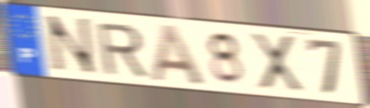7: (305, 36, 346, 98)
8: (206, 31, 246, 87)
A: (149, 22, 209, 87)
N: (43, 13, 101, 77)
R: (94, 22, 150, 79)
X: (247, 31, 307, 94)
